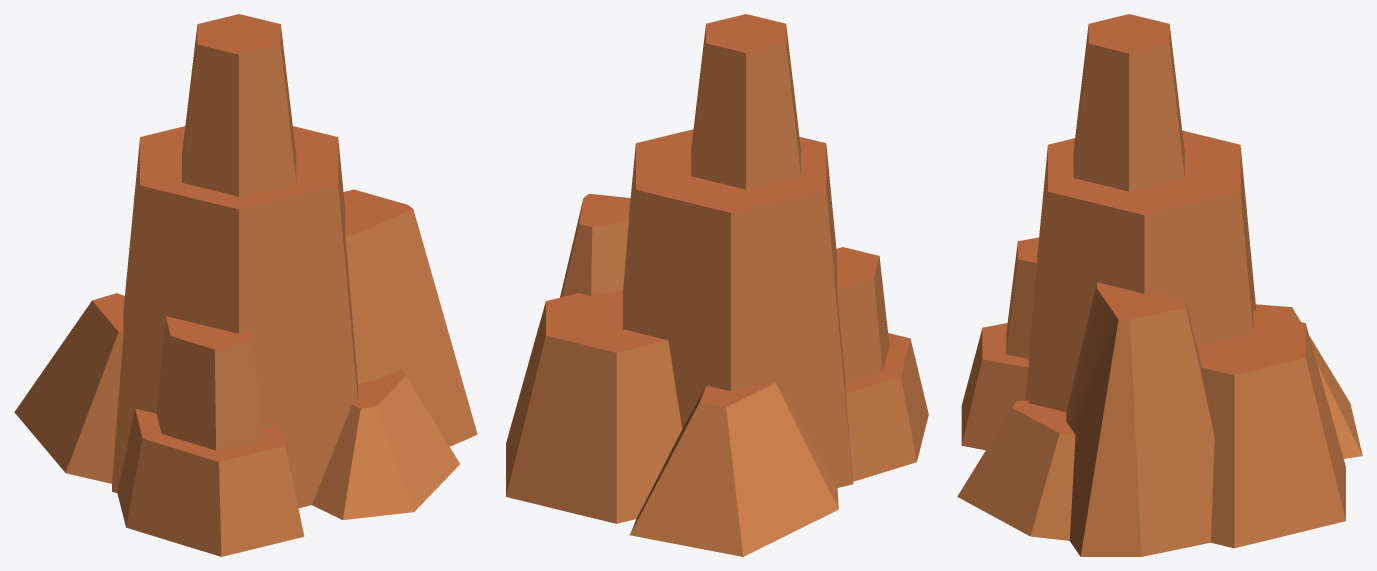
Rendered from mesa_1.fbx.
3 renders of one model, left to right at view 1: azimuth 30°, elevation 25°; view 2: azimuth 150°, elevation 25°; view 3: azimuth 270°, elevation 25°, orthographic. The views are drawn at different scales.
Parts seen in each view (by area): view 1: mesa_1; view 2: mesa_1; view 3: mesa_1.
Boxes of the visible parts, bbox=[...] form: mesa_1: bbox=[14, 14, 477, 556]; mesa_1: bbox=[506, 14, 928, 556]; mesa_1: bbox=[957, 14, 1362, 556].
Bounding box in the file's own units: 0.7648 × 0.8838 × 0.77.
Materials: 1 (1 with a texture image).
